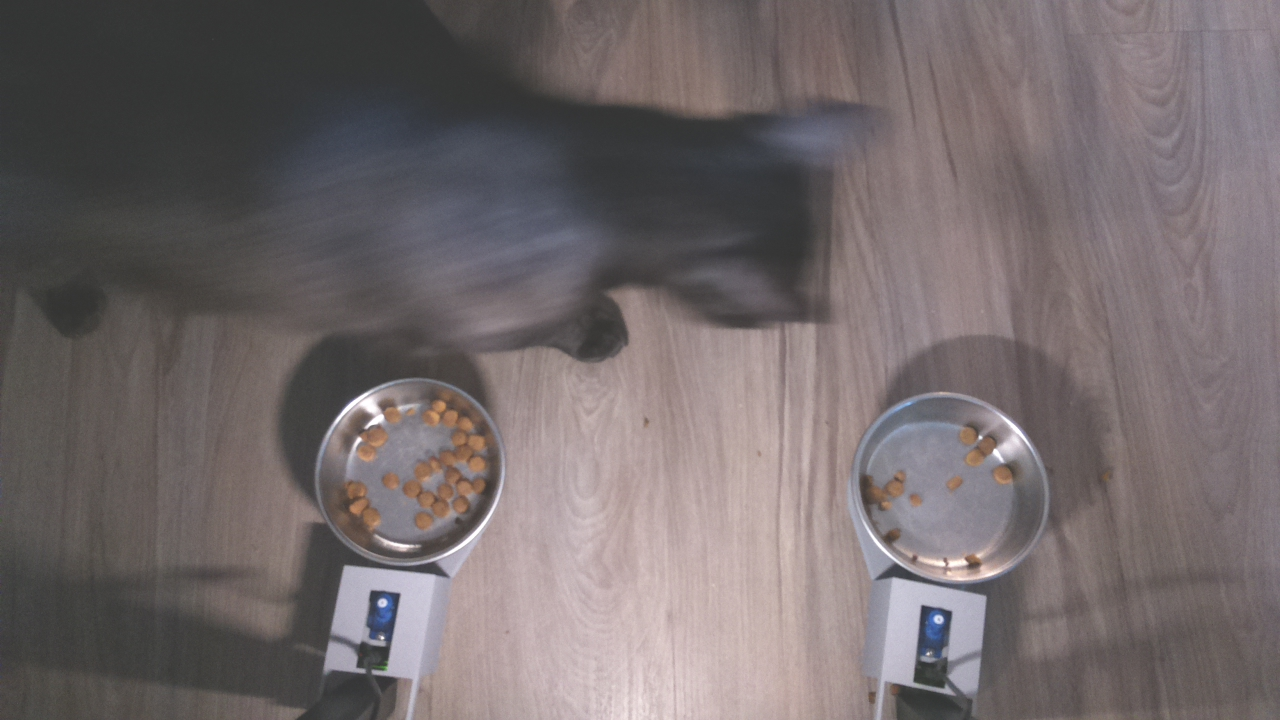open_bowl: (851, 390, 1055, 589), (309, 372, 506, 570)
saki: (585, 73, 886, 341)
